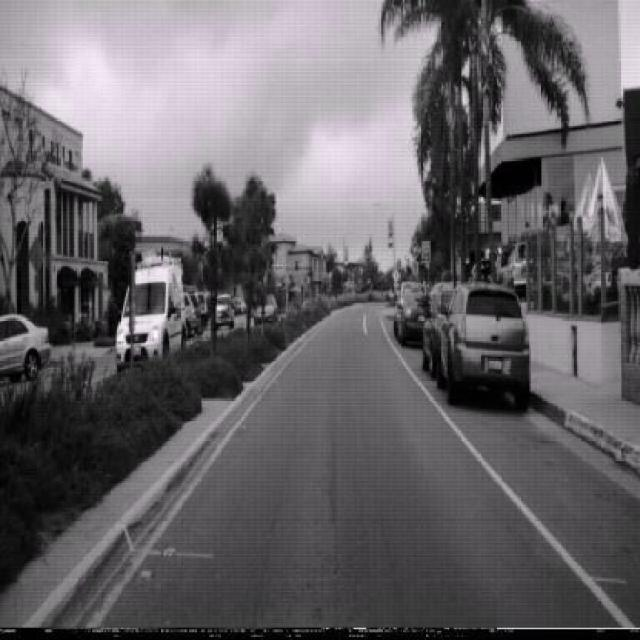roundabout: (409, 237, 421, 262)
speedLimit25: (422, 238, 432, 264)
